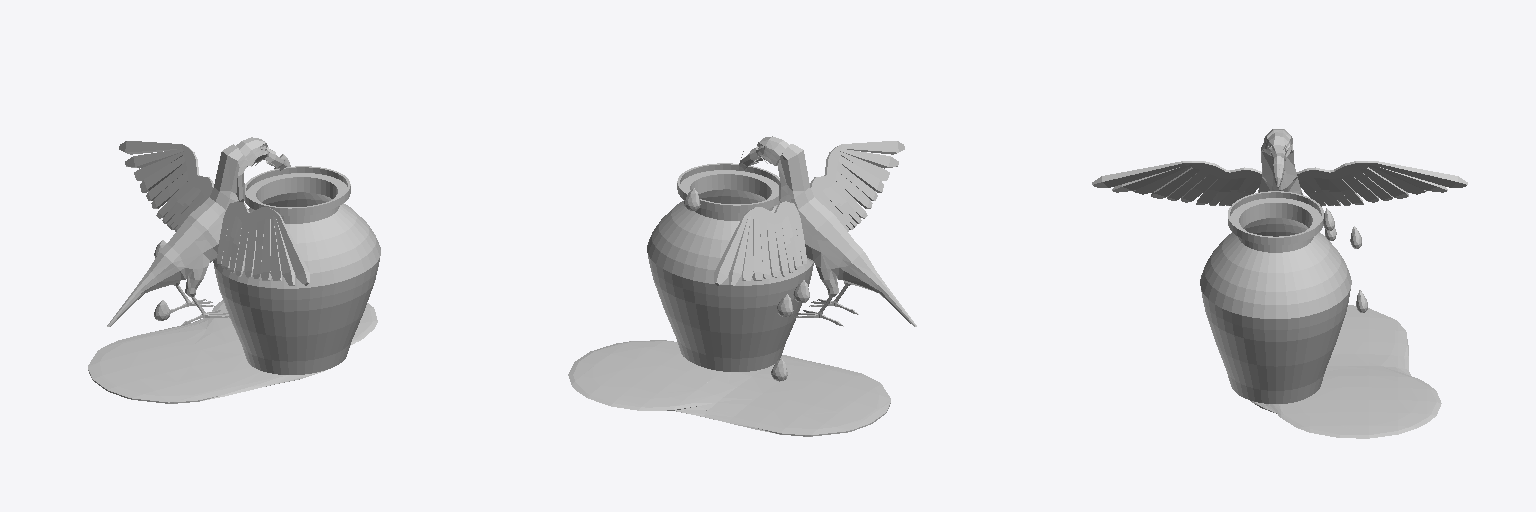
Rendered from bheegahuakaua1.obj.
3 renders of one model, left to right at view 1: azimuth 30°, elevation 25°; view 2: azimuth 150°, elevation 25°; view 3: azimuth 270°, elevation 25°, orthographic.
Visible parts, largest first — view 1: Circle, Cylinder, Mball; view 2: Circle, Mball, Cylinder; view 3: Circle, Mball, Cylinder.
Part boxes in pixels (x1,y1,x2,y2): Circle: (213, 166, 380, 374); Cylinder: (107, 137, 309, 326); Mball: (88, 300, 377, 403); Circle: (647, 163, 813, 371); Mball: (568, 340, 890, 436); Cylinder: (714, 136, 916, 326); Circle: (1200, 191, 1351, 403); Mball: (1251, 305, 1441, 438); Cylinder: (1092, 129, 1467, 206).
Bounding box in the file's own units: 1.18 × 0.8925 × 1.28.